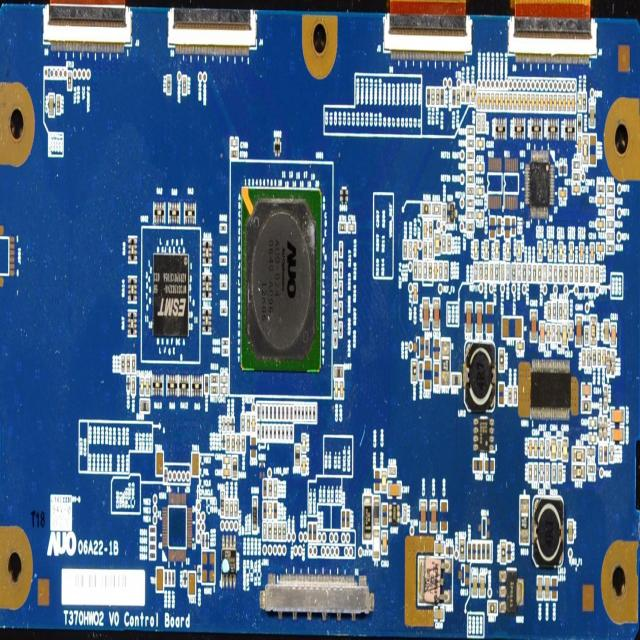Capacitor: (250, 436, 258, 464), (424, 361, 432, 387), (611, 407, 624, 423), (531, 311, 537, 342), (388, 483, 401, 497), (466, 304, 472, 334), (476, 304, 482, 334), (420, 500, 426, 530), (589, 103, 596, 127), (423, 300, 429, 328), (441, 502, 447, 530), (431, 504, 437, 532), (433, 338, 440, 360), (434, 299, 439, 329), (544, 575, 550, 600), (576, 316, 581, 345), (434, 608, 444, 622), (484, 238, 490, 260), (375, 471, 381, 493), (382, 531, 388, 553), (537, 575, 542, 601), (333, 378, 338, 403), (486, 88, 491, 112), (596, 196, 606, 208), (604, 320, 609, 344), (563, 324, 568, 348), (582, 384, 592, 396), (484, 460, 494, 472), (494, 239, 500, 258), (516, 240, 522, 259), (382, 472, 388, 491), (436, 540, 444, 554), (588, 418, 598, 429), (222, 454, 232, 465), (568, 522, 573, 543), (472, 574, 477, 595), (499, 90, 504, 110), (544, 92, 549, 112), (413, 240, 418, 260), (474, 240, 479, 260), (548, 240, 553, 260), (558, 242, 563, 262), (546, 324, 551, 344), (557, 326, 562, 346), (268, 502, 273, 522), (572, 184, 581, 195), (476, 210, 485, 221), (589, 434, 598, 445), (49, 96, 54, 115), (579, 243, 584, 262), (539, 463, 544, 482), (263, 500, 268, 519), (262, 522, 267, 541), (540, 322, 544, 345), (420, 338, 424, 361), (230, 149, 239, 159), (506, 243, 511, 261), (602, 349, 607, 367), (436, 85, 440, 107), (431, 86, 435, 108), (231, 138, 239, 149), (477, 139, 485, 150), (476, 186, 484, 197), (596, 242, 604, 253), (340, 379, 344, 401), (480, 574, 484, 596), (557, 95, 562, 112), (571, 95, 576, 112), (251, 416, 256, 433), (504, 89, 508, 110), (612, 325, 616, 346), (491, 90, 495, 110), (559, 188, 567, 198), (563, 302, 568, 318), (140, 376, 144, 396), (146, 377, 150, 397), (302, 434, 306, 454), (223, 466, 231, 476), (226, 499, 230, 519), (234, 500, 238, 520), (274, 502, 278, 522), (495, 91, 499, 110), (522, 91, 526, 110), (562, 93, 566, 112), (423, 221, 427, 240), (570, 242, 574, 261), (434, 261, 438, 280), (236, 434, 240, 453), (471, 85, 475, 103), (476, 163, 484, 172), (598, 219, 604, 231), (538, 243, 542, 261), (587, 350, 591, 368), (529, 439, 533, 457), (610, 445, 614, 463), (348, 223, 355, 233), (517, 342, 524, 352), (531, 93, 535, 110), (540, 94, 544, 111), (590, 244, 594, 261), (540, 439, 544, 456), (534, 439, 538, 456), (264, 479, 268, 496), (427, 86, 430, 108), (482, 88, 485, 110), (478, 89, 481, 111), (513, 94, 517, 110), (570, 322, 574, 338), (222, 416, 226, 432), (221, 374, 228, 383), (527, 92, 530, 112), (554, 94, 557, 114), (302, 457, 306, 472), (230, 499, 233, 519), (518, 92, 521, 111), (509, 91, 512, 109), (414, 285, 417, 303), (536, 95, 539, 112), (578, 92, 581, 108), (550, 93, 552, 113), (220, 388, 228, 393), (568, 92, 570, 111), (578, 133, 580, 152), (228, 414, 230, 433)
Connector: (500, 2, 602, 67), (41, 2, 137, 54), (165, 11, 262, 57)
IC: (240, 186, 323, 371), (145, 232, 197, 359), (531, 360, 571, 422), (523, 151, 557, 223), (162, 492, 192, 560), (222, 534, 236, 589)
Resistor Network: (572, 446, 585, 463), (572, 464, 585, 480), (590, 136, 596, 164), (459, 538, 465, 563), (582, 399, 591, 414), (573, 264, 579, 286), (473, 459, 483, 472), (584, 134, 588, 166), (434, 365, 440, 386), (604, 231, 616, 241), (546, 300, 552, 320), (210, 373, 219, 386), (501, 540, 506, 563), (277, 523, 283, 542), (456, 86, 461, 108), (606, 196, 616, 207), (141, 401, 151, 412), (422, 204, 431, 216), (166, 73, 171, 94), (499, 350, 504, 371), (267, 524, 273, 541), (333, 270, 338, 290), (210, 385, 220, 395), (466, 221, 475, 232), (338, 222, 347, 233), (466, 186, 474, 198), (182, 76, 187, 95), (552, 301, 557, 320), (333, 312, 338, 331), (558, 463, 563, 482), (412, 359, 416, 382), (132, 375, 136, 398), (606, 244, 615, 254), (584, 326, 589, 344), (131, 355, 136, 373), (241, 415, 246, 433), (587, 464, 596, 474), (607, 183, 615, 194), (339, 243, 344, 260), (522, 262, 527, 279), (126, 356, 131, 373), (241, 435, 246, 452), (466, 152, 475, 161), (466, 174, 474, 184), (597, 184, 605, 194), (466, 199, 474, 209), (403, 240, 407, 260), (334, 250, 338, 270), (444, 262, 448, 282), (473, 264, 478, 280), (339, 302, 344, 318), (121, 354, 125, 374), (508, 386, 512, 406), (546, 440, 550, 460), (557, 440, 561, 460), (534, 464, 538, 484), (274, 522, 278, 542), (428, 219, 432, 238), (448, 235, 452, 254), (334, 294, 338, 313), (273, 402, 277, 421), (558, 266, 563, 281), (68, 71, 72, 89), (466, 128, 475, 136), (467, 139, 475, 148), (606, 220, 614, 229), (424, 241, 428, 259), (506, 263, 510, 281), (501, 264, 505, 282), (543, 264, 547, 282), (585, 264, 589, 282), (334, 331, 338, 349), (546, 464, 550, 482), (149, 550, 156, 560), (583, 93, 587, 110), (339, 262, 343, 279), (512, 264, 516, 281), (339, 281, 343, 298), (559, 303, 563, 320), (592, 349, 596, 366), (598, 349, 602, 366), (312, 406, 316, 423), (290, 424, 294, 441), (552, 465, 556, 482), (269, 479, 273, 496), (274, 481, 278, 498), (168, 570, 172, 587), (572, 173, 580, 181), (428, 263, 432, 279), (495, 264, 499, 280), (590, 265, 594, 281), (528, 266, 532, 282), (553, 266, 557, 282), (580, 268, 584, 284), (164, 570, 168, 586), (290, 403, 293, 424), (149, 534, 156, 543), (574, 160, 580, 170), (608, 208, 614, 218), (568, 266, 572, 281), (339, 322, 343, 337), (308, 406, 312, 421), (265, 425, 269, 440), (269, 426, 273, 441), (529, 464, 532, 484), (442, 235, 445, 254), (514, 386, 517, 405), (466, 211, 474, 218), (438, 264, 442, 278), (538, 266, 542, 280), (256, 406, 260, 420), (261, 425, 265, 439), (149, 526, 156, 534), (57, 96, 60, 114), (564, 264, 567, 282), (305, 406, 308, 424), (247, 414, 250, 432), (227, 435, 230, 453), (462, 85, 465, 102), (533, 265, 536, 282), (596, 265, 599, 282), (282, 404, 285, 421), (278, 405, 281, 422), (232, 436, 235, 453), (600, 446, 603, 463), (283, 524, 286, 541), (149, 544, 156, 551), (485, 264, 488, 280), (490, 264, 493, 280), (549, 265, 552, 281), (282, 426, 285, 442), (286, 426, 289, 442), (262, 405, 265, 420), (172, 571, 175, 586), (467, 165, 474, 171), (518, 265, 521, 279), (480, 264, 482, 280), (287, 406, 289, 422), (274, 425, 276, 441), (294, 404, 296, 419), (298, 405, 300, 420), (266, 406, 268, 421), (270, 406, 272, 421), (302, 405, 304, 419), (258, 426, 260, 440), (278, 426, 280, 440)
Transistor: (447, 200, 458, 224)
